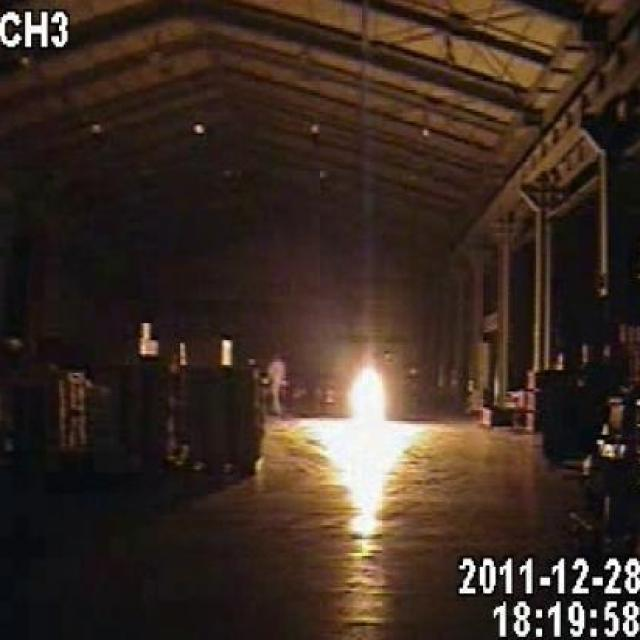smoke: (340, 372, 393, 468)
